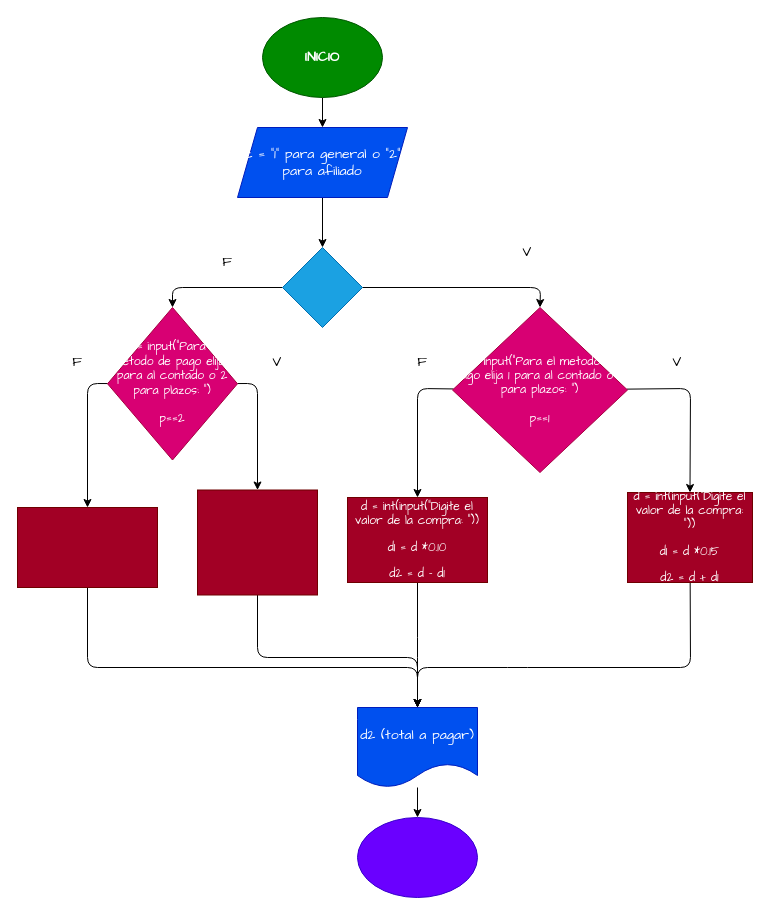
This 770x915 diagram has some shape labels left out. Each missing label, with the centre of its shape:
c==1: (322,287)
d = int(input("Digite el valor de la compra: ")) d1 = d *0.20 d2 = d - d1: (87,547)
d = int(input("Digite el valor de la compra: ")) d1 = d *0.5 d2 = d + d1: (257,542)
FIN: (417,857)
